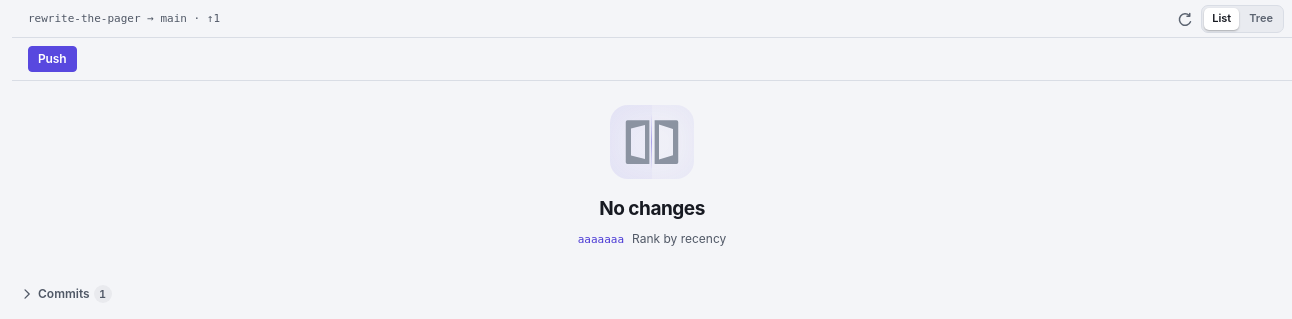
Scenario: pushing from the changes tab › toasts nothing when it lands where the tab shows it
Click the button "Push": x=52, y=59 [28,46,77,72]
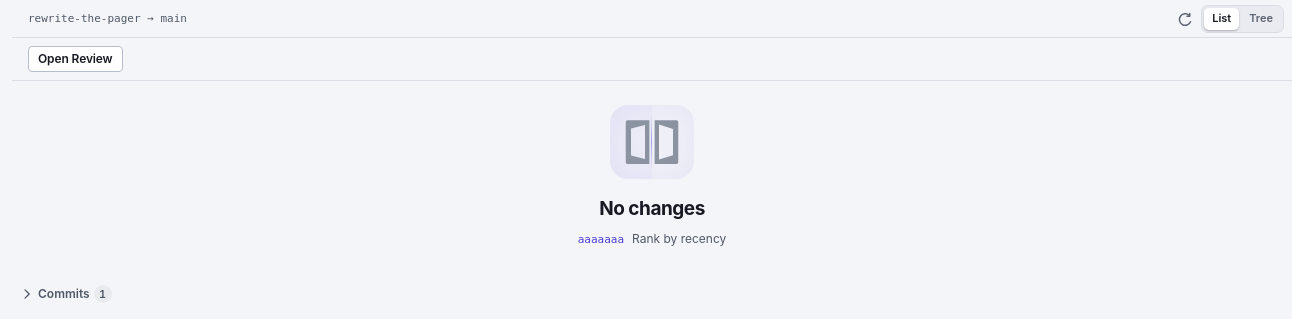
expect the button "Open Review" is shown: met, box [28,46,123,72]
